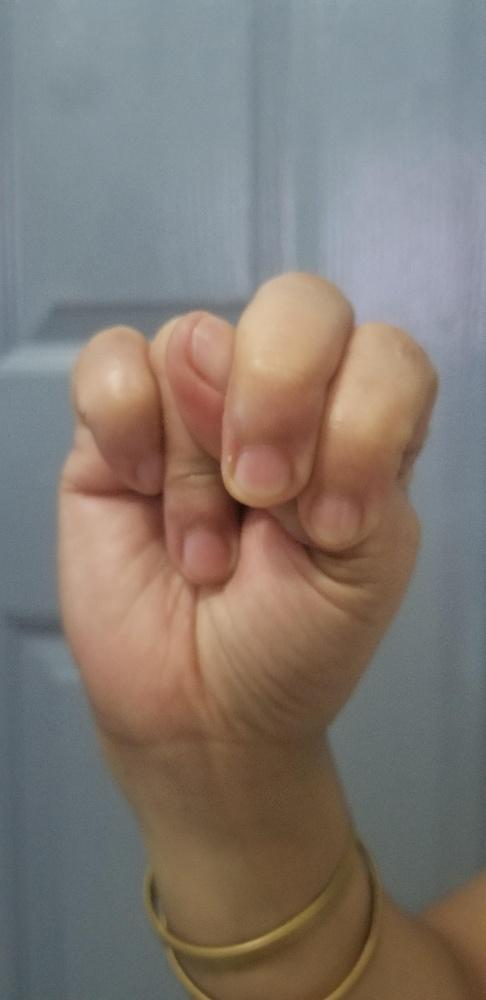n: (52, 265, 441, 746)
